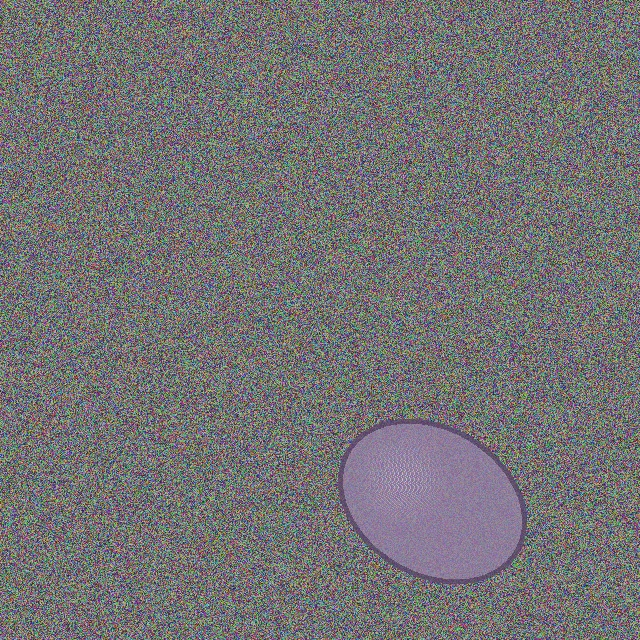lens: (340, 421, 524, 581)
